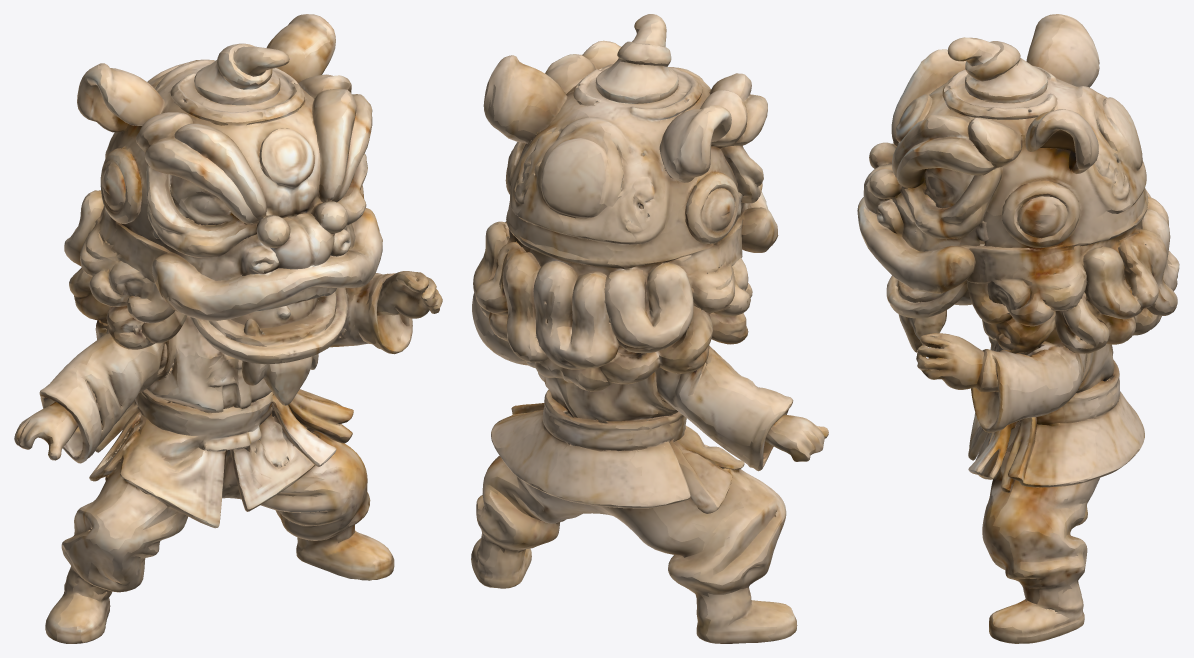
The model's file is 大理石.glb.
3 renders of one model, left to right at view 1: azimuth 30°, elevation 25°; view 2: azimuth 150°, elevation 25°; view 3: azimuth 270°, elevation 25°, orthographic. The views are drawn at different scales.
Parts seen in each view (by area): view 1: geometry_0; view 2: geometry_0; view 3: geometry_0.
Part boxes in pixels (box(x1,y1,x2,y2)): geometry_0: box(14, 14, 442, 643); geometry_0: box(471, 14, 828, 643); geometry_0: box(857, 14, 1179, 643).
Size of the model in its own units: 0.1242 by 0.18 by 0.0982.
Materials: 1 (1 with a texture image).
